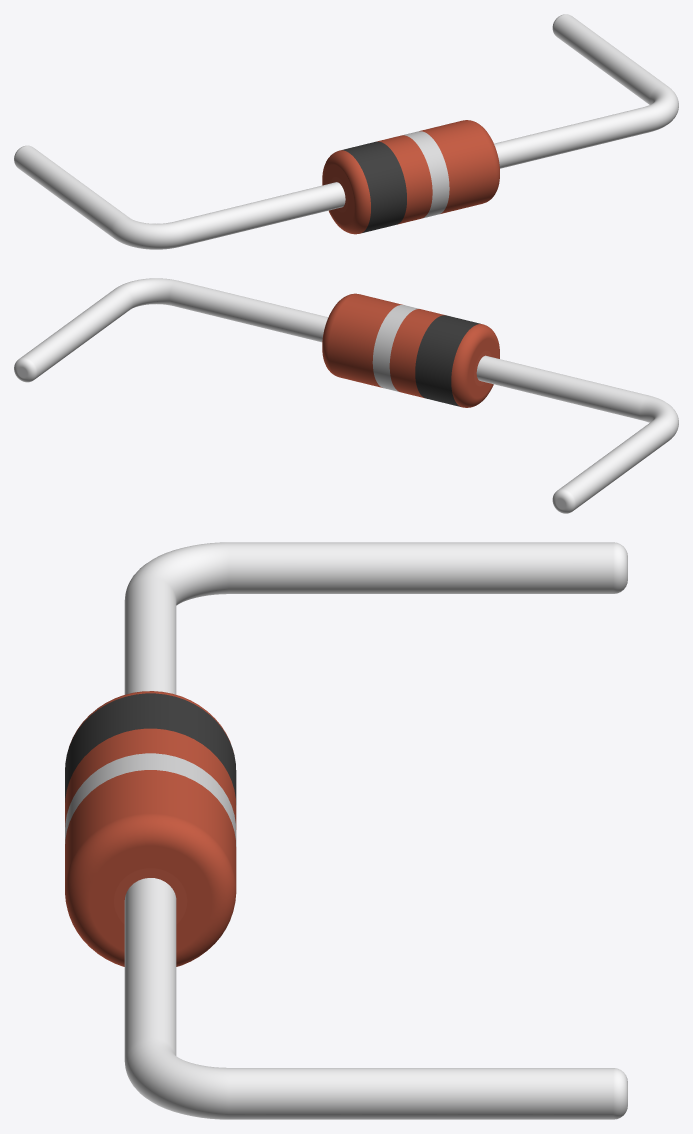
The picture shows the model from 3 angles, top to bottom: view 1: azimuth 30°, elevation 25°; view 2: azimuth 150°, elevation 25°; view 3: azimuth 270°, elevation 25°; orthographic projection. The views are drawn at different scales.
Parts seen in each view (by area): view 1: Body1, Body5, Body8, Body7, Body2, Body6; view 2: Body1, Body5, Body8, Body7, Body2, Body6; view 3: Body1, Body5, Body8, Body2, Body6, Body1:1.
Boxes of the visible parts, x1,y1,x2,y2 form: Body1: (14, 14, 678, 249); Body5: (419, 120, 499, 213); Body8: (341, 141, 406, 232); Body7: (322, 150, 370, 234); Body2: (377, 135, 432, 224); Body6: (403, 131, 449, 218); Body1: (14, 278, 678, 513); Body5: (322, 293, 402, 387); Body8: (415, 315, 480, 406); Body7: (451, 324, 499, 407); Body2: (389, 309, 445, 398); Body6: (372, 305, 419, 391); Body1: (124, 542, 627, 1119); Body5: (65, 770, 236, 966); Body8: (65, 693, 236, 804); Body2: (65, 728, 236, 829); Body6: (65, 753, 236, 846); Body1:1: (114, 868, 187, 924).
Size of the model in its own units: 13.23 by 1.75 by 5.75.
